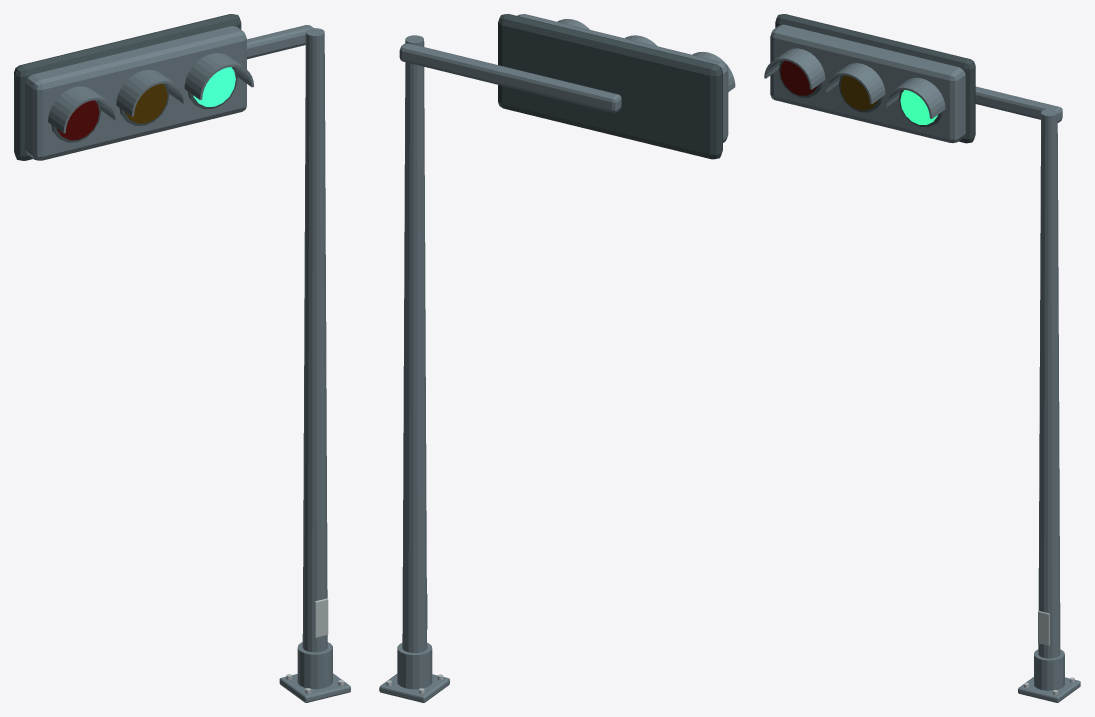
File: SIMUS_Traffic_Light_Green.glb
The picture shows the model from 3 angles, left to right: view 1: azimuth 30°, elevation 25°; view 2: azimuth 150°, elevation 25°; view 3: azimuth 330°, elevation 25°; orthographic projection. The views are drawn at different scales.
Visible parts, largest first — view 1: Signal pole, Signal housing, Signal backplate, Visor Red, Visor Amber, Pole foot, Visor Green, Signal arm, Lens Green, Lens Red, Lens Amber, Mounting plate (+1 smaller); view 2: Signal backplate, Signal pole, Signal arm, Pole foot, Signal housing, Mounting plate; view 3: Signal pole, Signal housing, Signal backplate, Signal arm, Visor Amber, Visor Red, Visor Green, Pole foot, Lens Green, Lens Red, Lens Amber, Mounting plate.
Boxes of the visible parts, x1,y1,x2,y2 form: Signal pole: (302, 28, 327, 652); Signal housing: (25, 26, 246, 160); Signal backplate: (14, 14, 241, 160); Visor Red: (48, 86, 117, 133); Visor Amber: (116, 69, 185, 116); Pole foot: (297, 642, 332, 689); Visor Green: (184, 53, 253, 99); Signal arm: (247, 25, 313, 59); Lens Green: (193, 67, 235, 106); Lens Red: (57, 100, 99, 140); Lens Amber: (125, 83, 167, 123); Mounting plate: (279, 673, 350, 702); Signal backplate: (498, 14, 722, 159); Signal pole: (402, 35, 427, 652); Signal arm: (399, 43, 621, 112); Pole foot: (397, 642, 432, 689); Signal housing: (517, 14, 728, 142); Mounting plate: (379, 674, 449, 702); Signal pole: (1038, 109, 1060, 658); Signal housing: (770, 24, 965, 143); Signal backplate: (775, 14, 975, 143); Signal arm: (975, 86, 1062, 122); Visor Amber: (824, 63, 885, 104); Visor Red: (764, 48, 825, 89); Visor Green: (884, 77, 945, 118); Pole foot: (1034, 649, 1064, 690); Lens Green: (900, 90, 937, 124); Lens Red: (780, 60, 817, 95); Lens Amber: (840, 75, 877, 110); Mounting plate: (1018, 677, 1080, 702).
Size of the model in its own units: 2.98 by 6.07 by 0.78.
